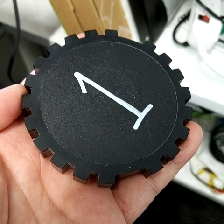gear: (20, 28, 194, 187)
missing: (96, 156, 162, 187), (104, 28, 156, 53)
